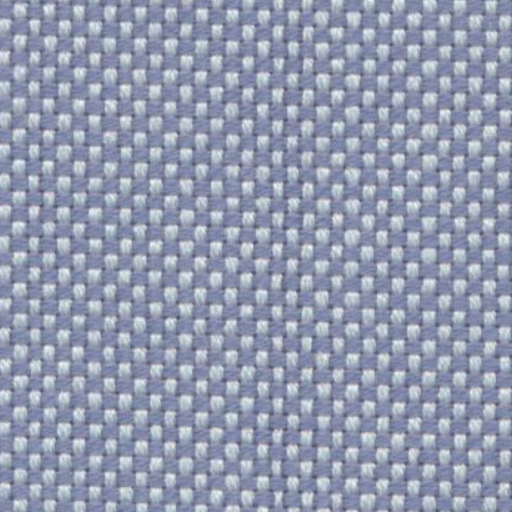TuoSha: (259, 12, 323, 498)
